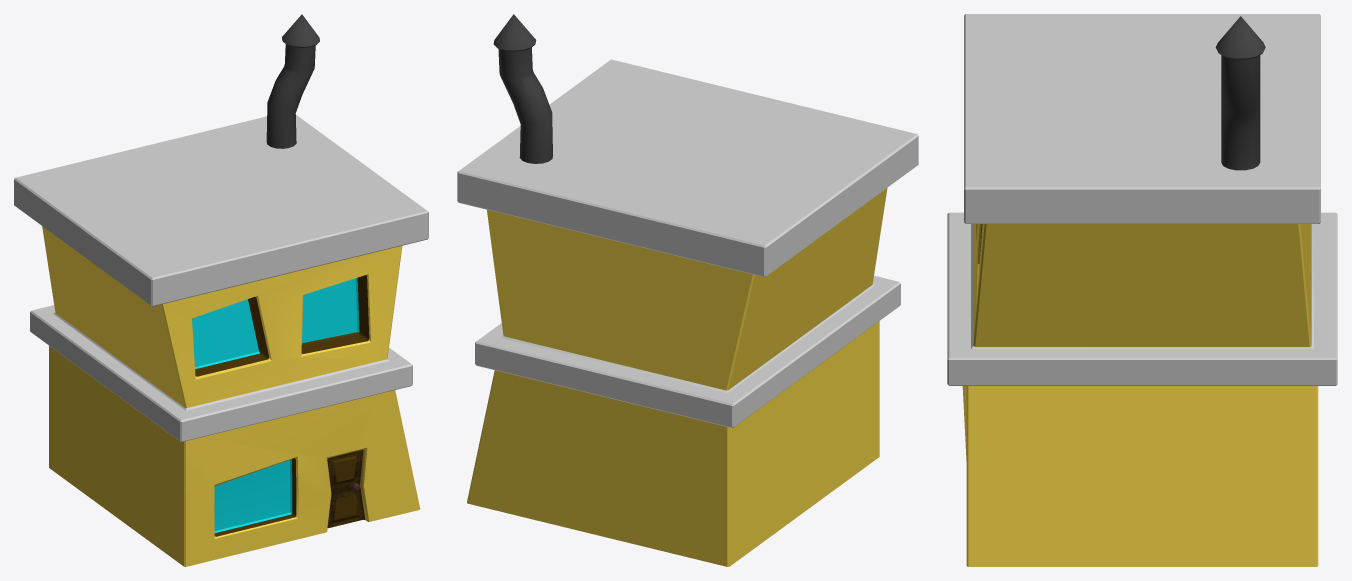
File: PredioPequeno-AmareloLOD0.fbx
3 renders of one model, left to right at view 1: azimuth 30°, elevation 25°; view 2: azimuth 150°, elevation 25°; view 3: azimuth 270°, elevation 25°, orthographic. The views are drawn at different scales.
Visible parts, largest first — view 1: Predio2Andares; view 2: Predio2Andares; view 3: Predio2Andares.
Part boxes in pixels (box(x1,y1,x2,y2)): Predio2Andares: box(14, 14, 428, 566); Predio2Andares: box(457, 14, 918, 566); Predio2Andares: box(947, 14, 1337, 566).
Size of the model in its own units: 715 by 1035 by 675.
